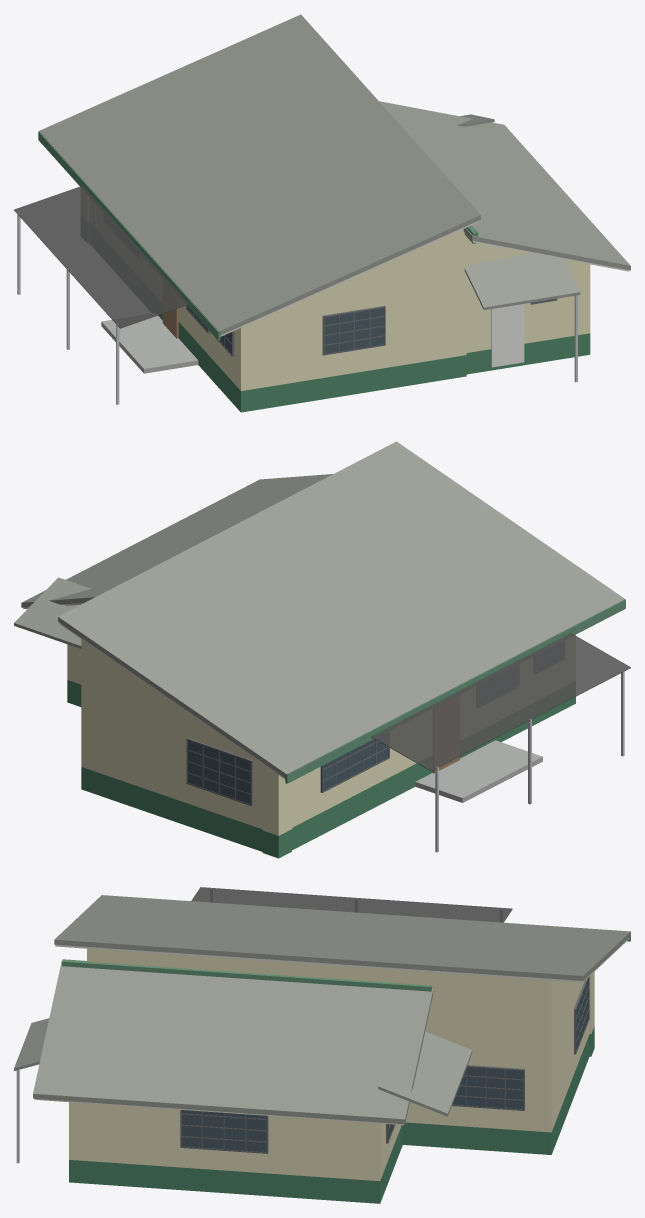
File: rares_staff_house_d.glb
The picture shows the model from 3 angles, top to bottom: view 1: azimuth 30°, elevation 25°; view 2: azimuth 150°, elevation 25°; view 3: azimuth 270°, elevation 25°; orthographic projection. The views are drawn at different scales.
Visible parts, largest first — view 1: West_Roof, West_Body, East_Roof, Front_Shade_Net, West_Dado, East_Body, South_Porch_Awning, Front_Landing_Slab, WestWing_South_Win_g, East_Dado, South_Rear_Door, West_Fascia_W (+1 smaller); view 2: West_Roof, West_Body, Front_Shade_Net, West_Dado, East_Roof, Front_Landing_Slab, West_Fascia_W, WestWing_North_Win_g, NE_Recess_Awning, Pilaster_NW_Y, Front_Win_N_g, Pilaster_NW_D; view 3: East_Roof, West_Roof, West_Body, East_Body, East_Dado, Front_Shade_Net, West_Dado, NE_Recess_Awning, East_Flank_Win_g, Spine_Fascia_Band, NE_Win_Spine_g, West_Soffit (+3 smaller).
Part boxes in pixels (box(x1,y1,x2,y2)): West_Roof: box(39, 14, 480, 335); West_Body: box(178, 229, 466, 390); East_Roof: box(379, 101, 630, 270); Front_Shade_Net: box(14, 185, 188, 328); West_Dado: box(158, 314, 466, 412); East_Body: box(466, 237, 590, 352); South_Porch_Awning: box(464, 254, 580, 310); Front_Landing_Slab: box(101, 315, 198, 373); WestWing_South_Win_g: box(324, 308, 384, 353); East_Dado: box(466, 333, 590, 374); South_Rear_Door: box(491, 304, 524, 367); West_Fascia_W: box(38, 131, 220, 340); West_Roof: box(58, 441, 624, 777); West_Body: box(81, 634, 575, 829); Front_Shade_Net: box(371, 633, 630, 771); West_Dado: box(81, 696, 575, 851); East_Roof: box(21, 474, 332, 607); Front_Landing_Slab: box(415, 740, 542, 802); West_Fascia_W: box(285, 599, 625, 783); WestWing_North_Win_g: box(188, 740, 250, 804); NE_Recess_Awning: box(14, 577, 91, 648); Pilaster_NW_Y: box(262, 764, 291, 835); Front_Win_N_g: box(323, 739, 388, 790); Pilaster_NW_D: box(262, 829, 291, 858); East_Roof: box(33, 961, 433, 1124); West_Roof: box(54, 895, 630, 980); West_Body: box(87, 948, 589, 1132); East_Body: box(69, 1102, 401, 1181); East_Dado: box(69, 1125, 402, 1203); Front_Shade_Net: box(191, 887, 512, 922); West_Dado: box(403, 1034, 589, 1154); NE_Recess_Awning: box(378, 1031, 472, 1116); East_Flank_Win_g: box(182, 1110, 266, 1152); Spine_Fascia_Band: box(62, 959, 431, 991); NE_Win_Spine_g: box(452, 1067, 523, 1109); West_Soffit: box(55, 938, 629, 982).
Size of the model in its own units: 12.92 by 4.44 by 13.59.
